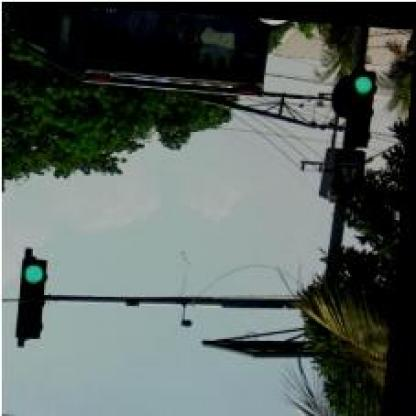green: (346, 64, 380, 141), (20, 256, 51, 338)
